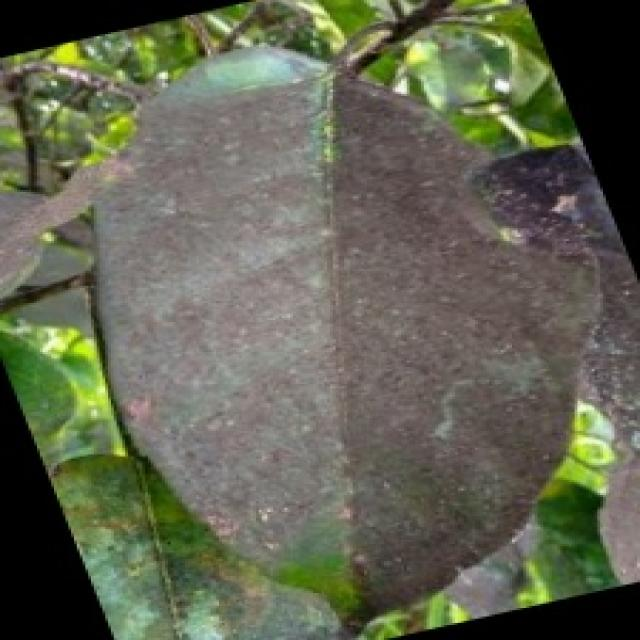Sooty Mold: (83, 41, 603, 618)
